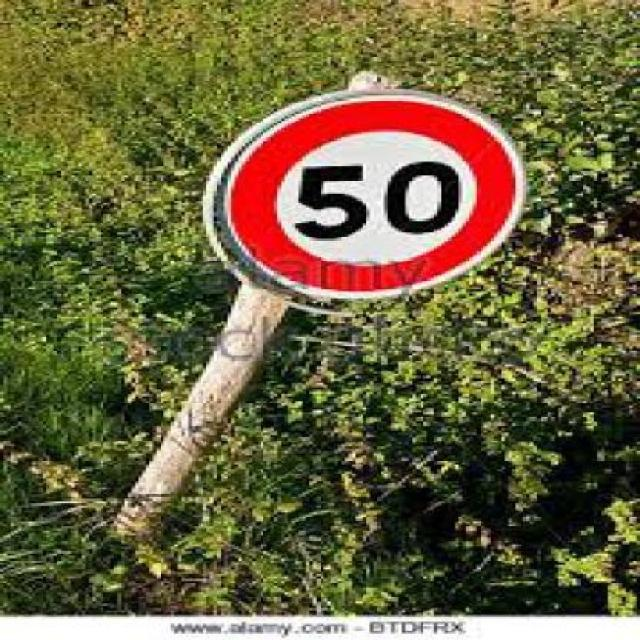forb_speed_over_50: (233, 95, 515, 299)
